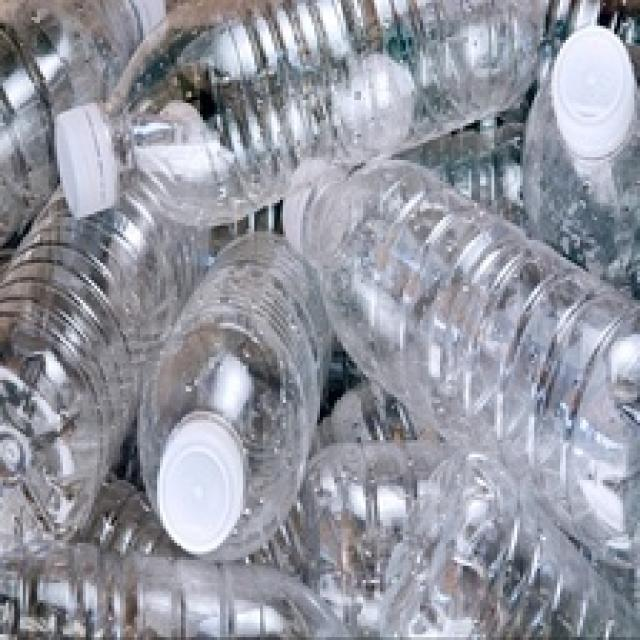good: (233, 122, 636, 576), (40, 1, 561, 274), (133, 222, 336, 556)
